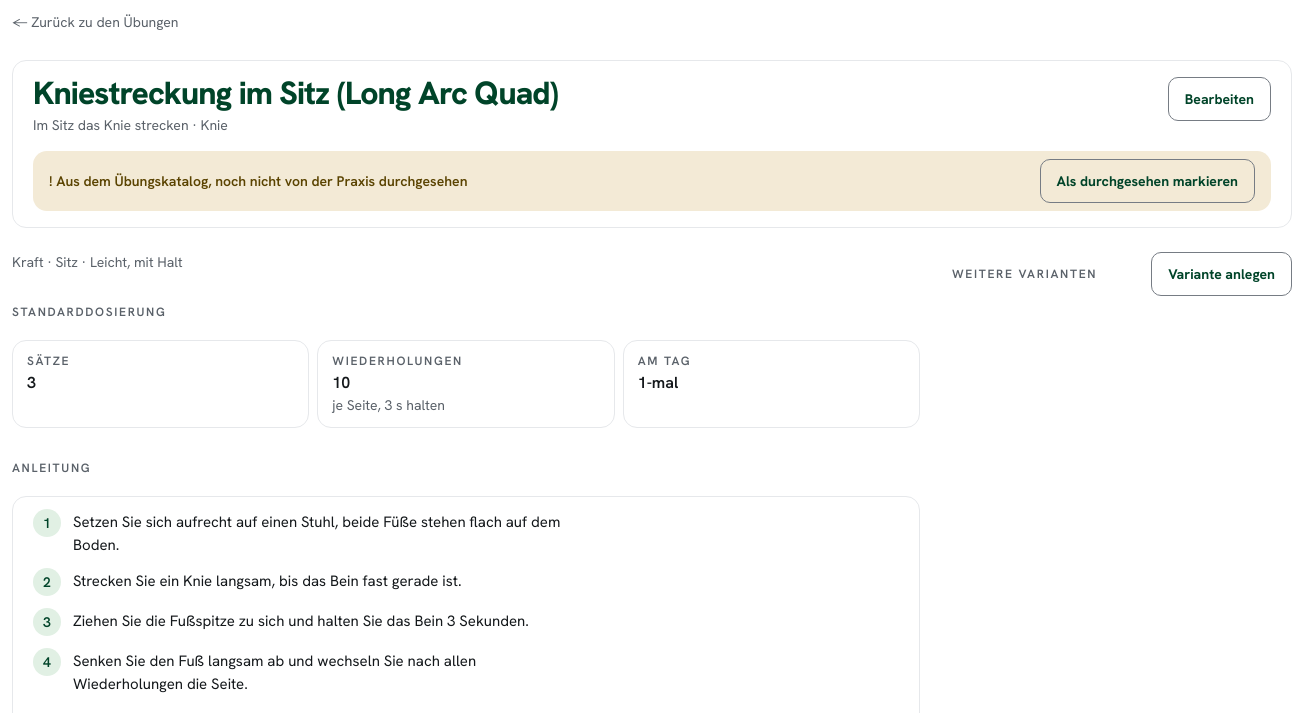
UebungAnsicht (UEB-001, Welle B: Objektseite) › lässt owner die Übung als durchgesehen markieren und bestätigt es (ANN-386)
Click the button "Als durchgesehen markieren": point(1147, 181) [1040,159,1255,203]
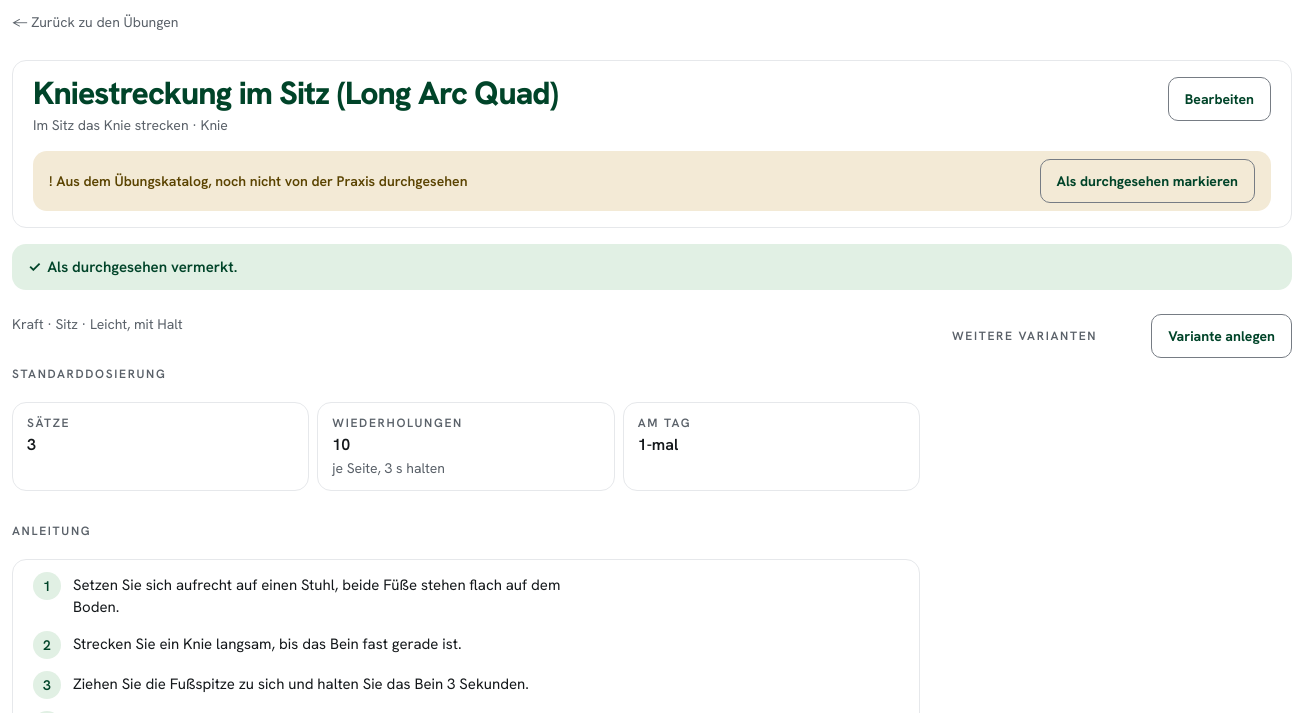
Expected: the text "Als durchgesehen vermerkt." is shown, [47,257,237,277]
